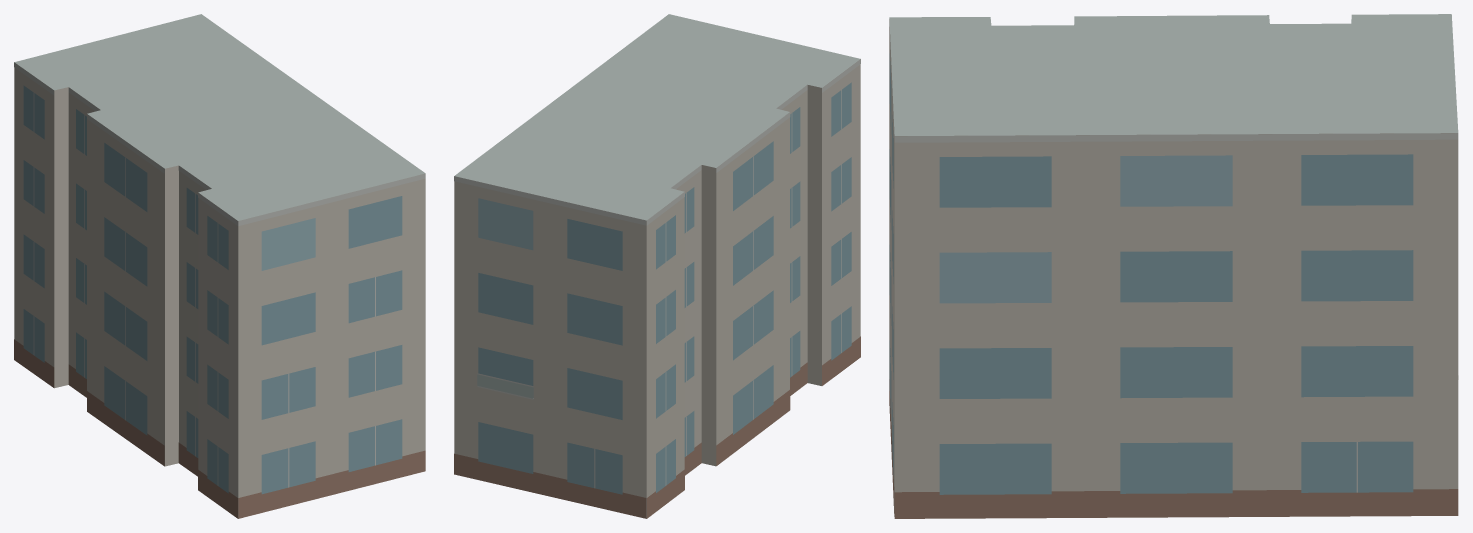
The model's file is survey-upis-32520141.glb.
3 views of the same model, side by side, from view 1: azimuth 30°, elevation 25°; view 2: azimuth 150°, elevation 25°; view 3: azimuth 270°, elevation 25° (orthographic). The views are drawn at different scales.
Parts seen in each view (by area): view 1: survey-upis-32520141.tmp; view 2: survey-upis-32520141.tmp; view 3: survey-upis-32520141.tmp.
Boxes of the visible parts, left/top/right/bottom form: survey-upis-32520141.tmp: left=14, top=14, right=425, bottom=518; survey-upis-32520141.tmp: left=454, top=14, right=860, bottom=518; survey-upis-32520141.tmp: left=889, top=14, right=1458, bottom=518.
Size of the model in its own units: 9.59 by 14 by 18.88.
